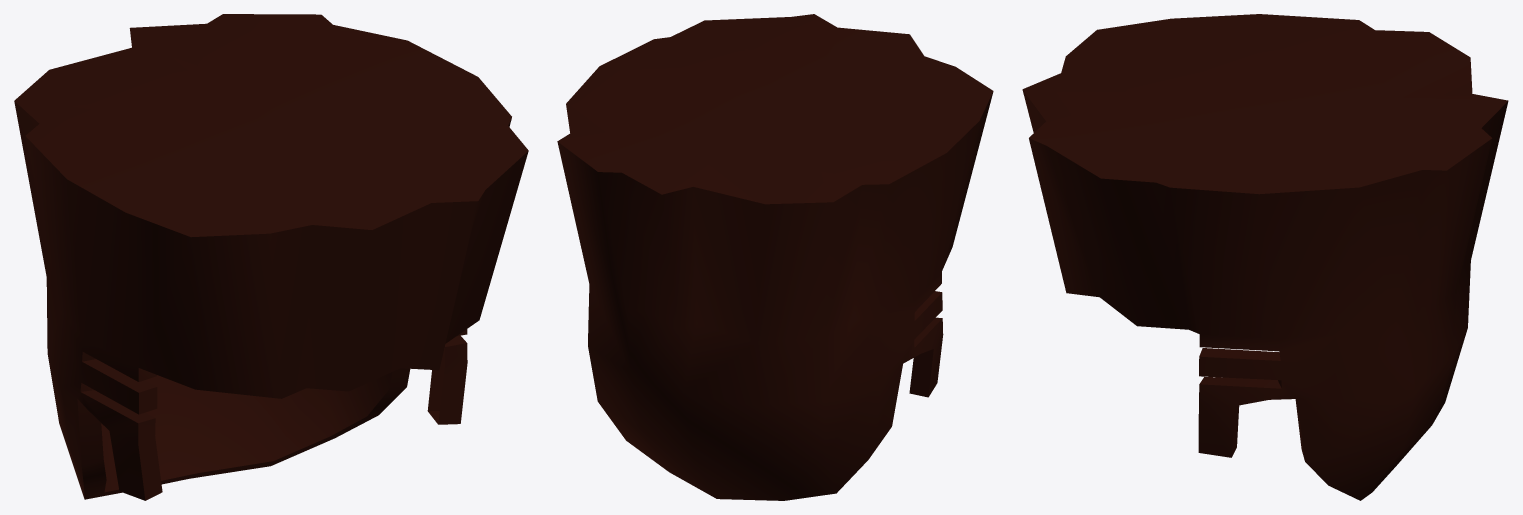
The model's file is Male CP Hair 02.FBX.
3 renders of one model, left to right at view 1: azimuth 30°, elevation 25°; view 2: azimuth 150°, elevation 25°; view 3: azimuth 270°, elevation 25°, orthographic. The views are drawn at different scales.
Visible parts, largest first — view 1: Male CP Hair 02; view 2: Male CP Hair 02; view 3: Male CP Hair 02.
Boxes of the visible parts, bbox=[...] form: Male CP Hair 02: bbox=[14, 14, 528, 500]; Male CP Hair 02: bbox=[557, 14, 993, 500]; Male CP Hair 02: bbox=[1022, 14, 1508, 500].
Bounding box in the file's own units: 52.19 × 49.44 × 58.9.
